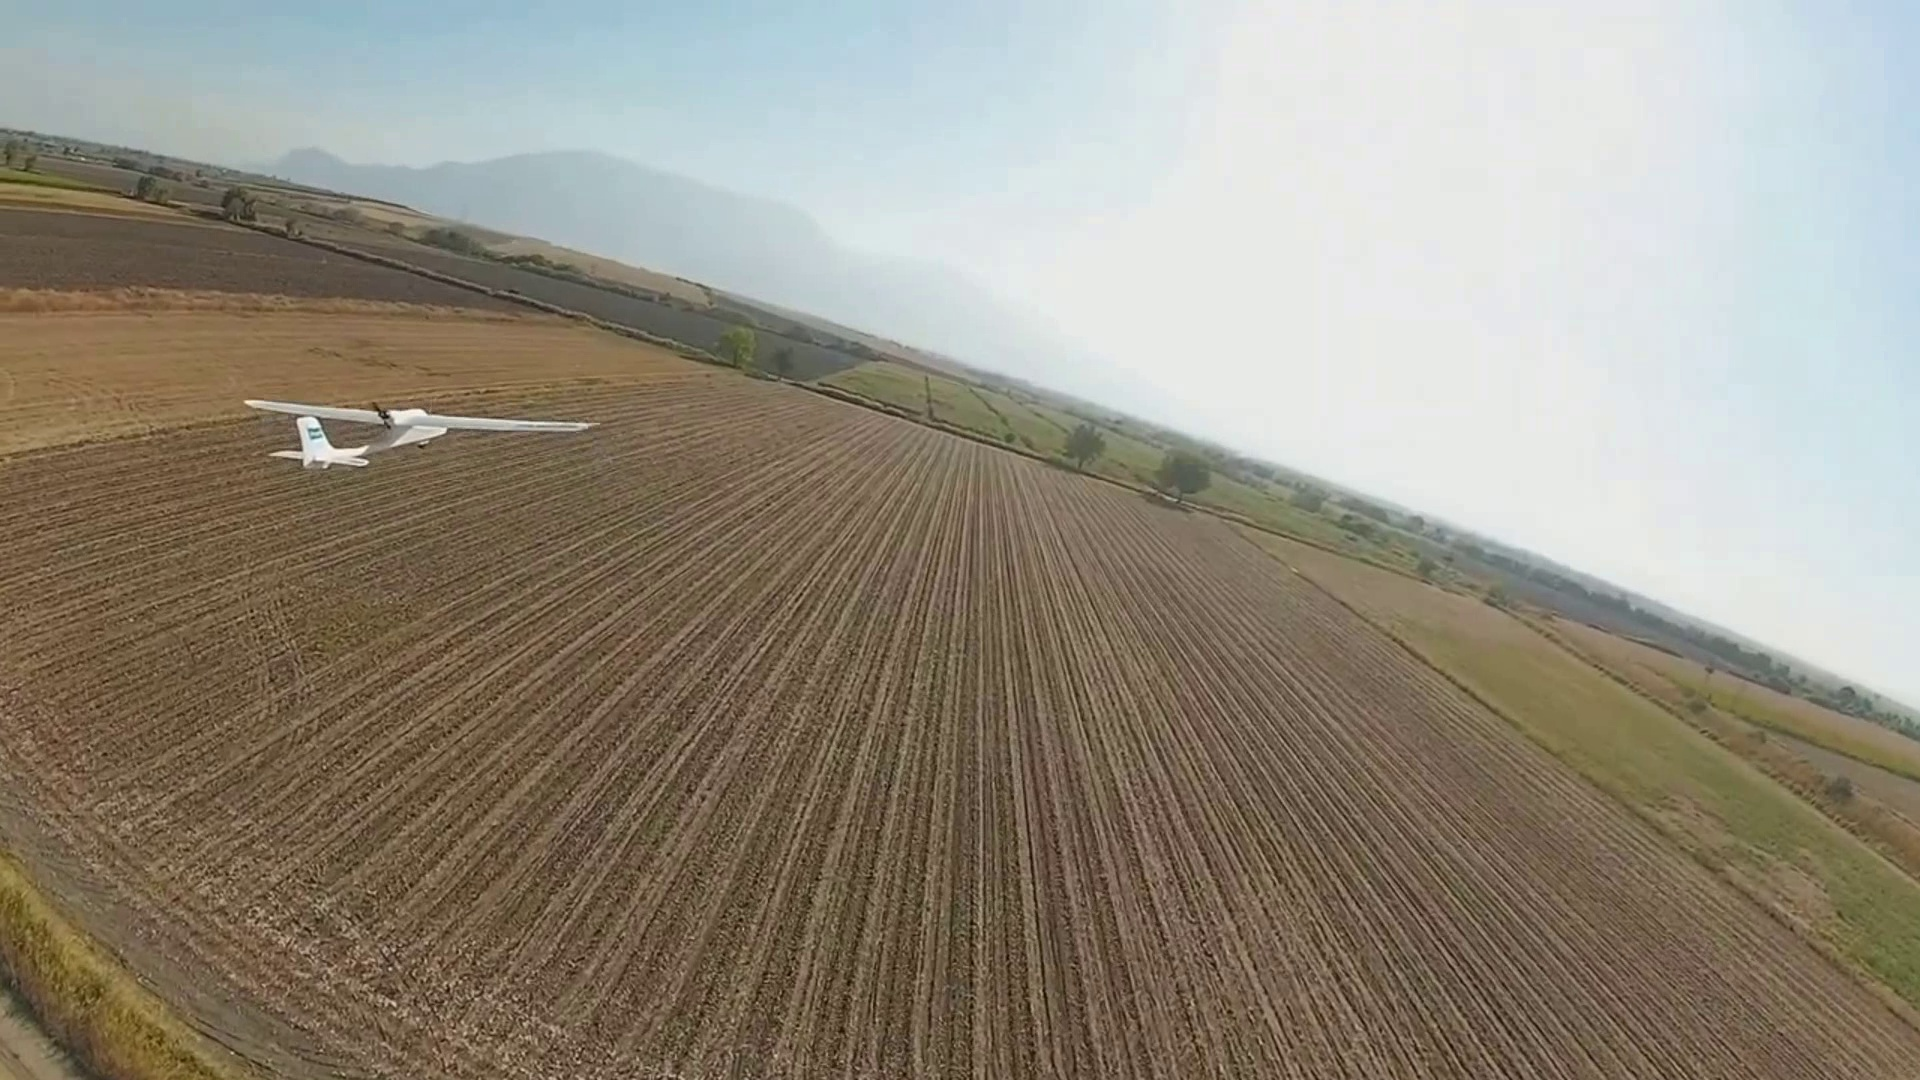airplane: (15, 146, 1920, 911), (232, 396, 596, 467), (241, 392, 446, 469)
